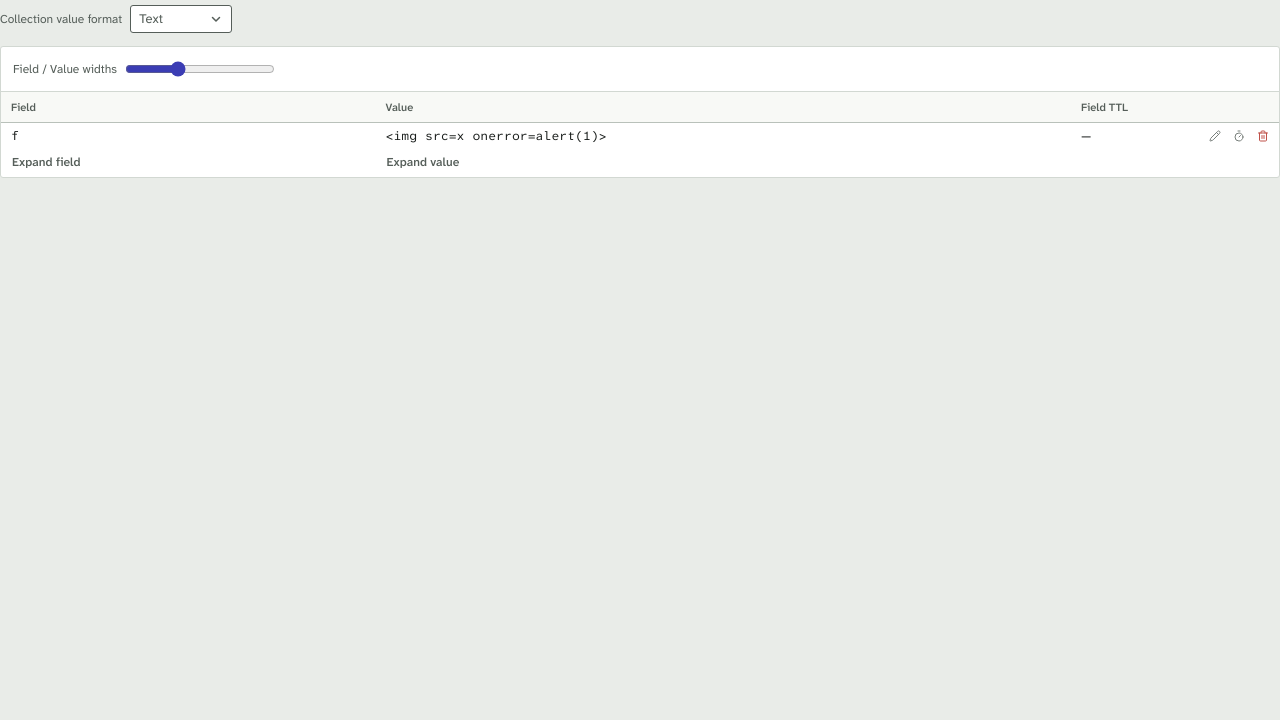
Test case: truncated collection safety › offers the safe value inspector for collection entries
Click the button "<img src=x onerror=alert(1)>": (496,136) x1=386 y1=126 x2=1061 y2=146
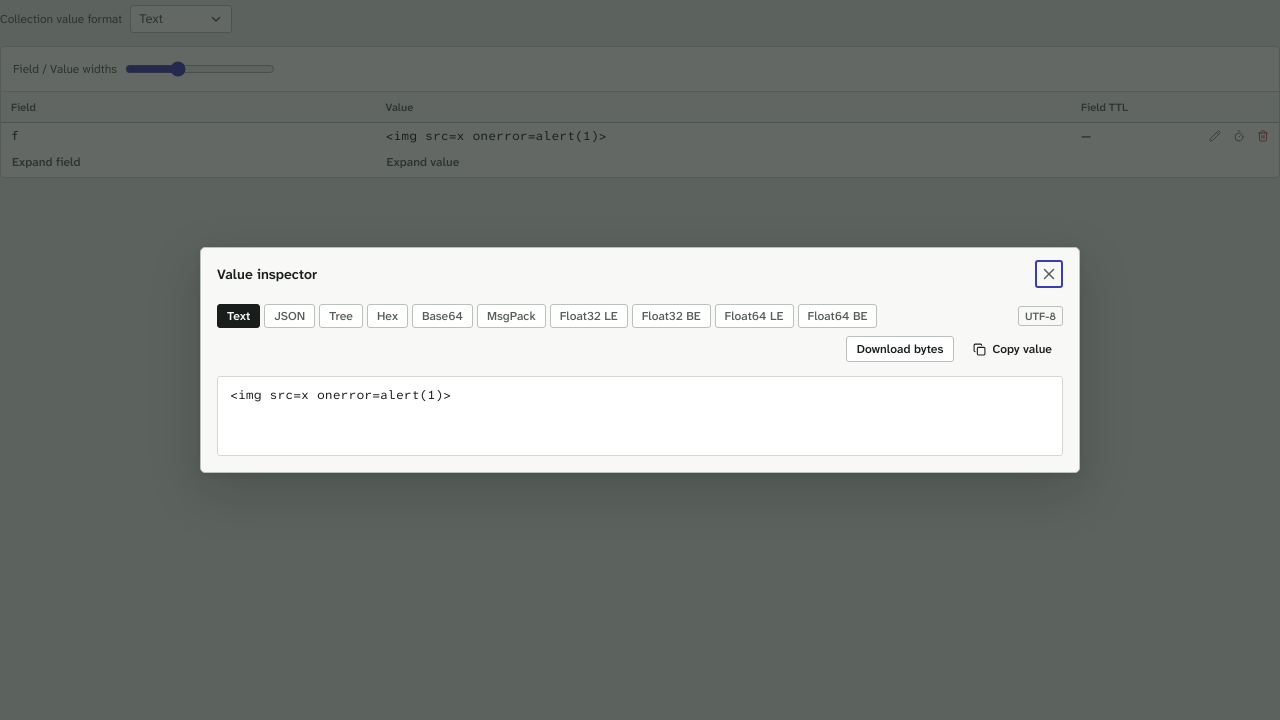
Result: the dialog with test id "value-inspector-dialog" is shown at x1=200 y1=247 x2=1080 y2=473
Result: the text with test id "key-value" reads "<img src=x onerror=alert(1)>" at x1=230 y1=387 x2=451 y2=403
